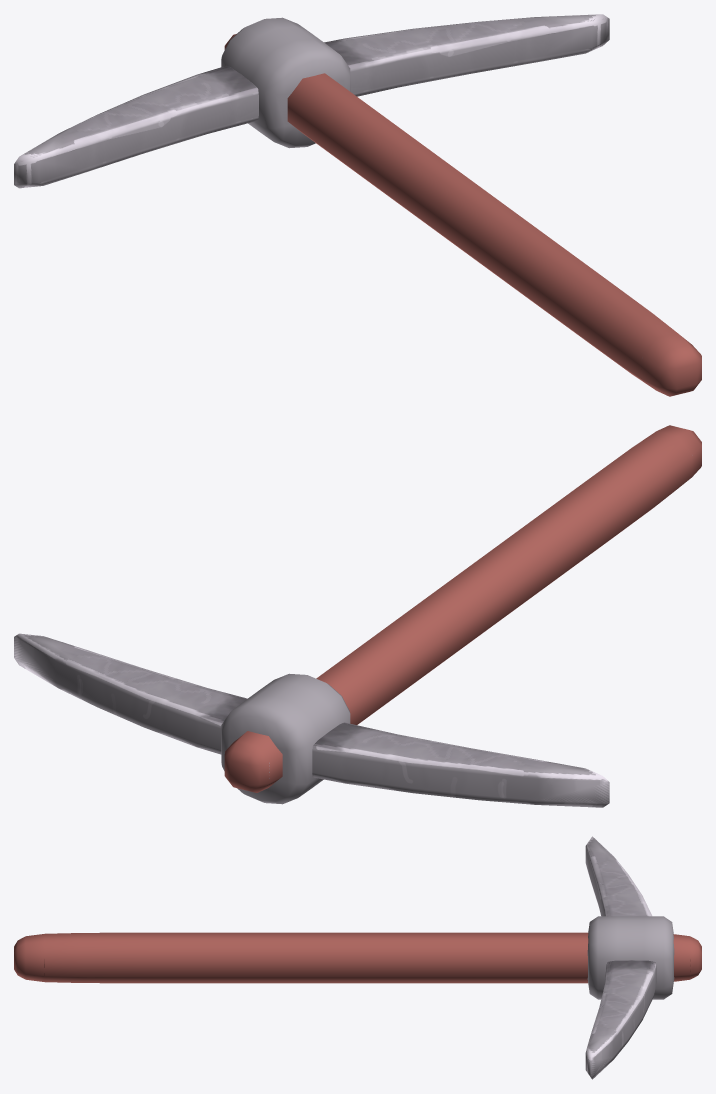
The model's file is pickaxe.glb.
3 views of the same model, one above another, from view 1: azimuth 30°, elevation 25°; view 2: azimuth 150°, elevation 25°; view 3: azimuth 270°, elevation 25° (orthographic). The views are drawn at different scales.
Parts seen in each view (by area): view 1: pickaxe; view 2: pickaxe; view 3: pickaxe.
Boxes of the visible parts, bbox=[...] form: pickaxe: bbox=[14, 14, 701, 396]; pickaxe: bbox=[14, 425, 701, 807]; pickaxe: bbox=[14, 836, 701, 1079].
Bounding box in the file's own units: 11.76 × 1.83 × 15.28.
Materials: 1 (1 with a texture image).
